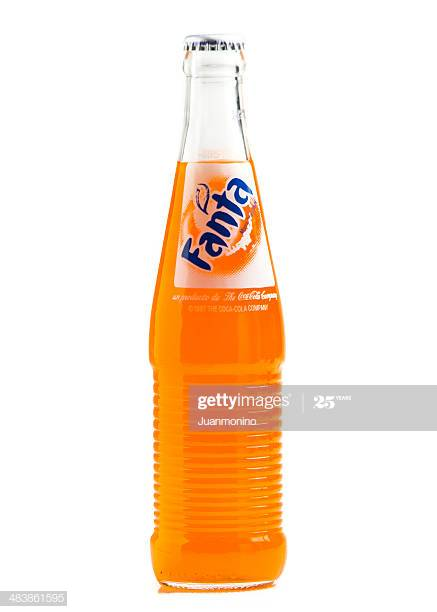Fanta: (127, 33, 314, 606)
